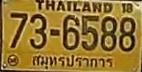3: (29, 13, 46, 48)
5: (81, 14, 98, 50)
6: (62, 14, 79, 49)
7: (10, 12, 27, 47)
8: (118, 16, 134, 51), (100, 16, 116, 50)
SPK: (30, 52, 114, 71)
